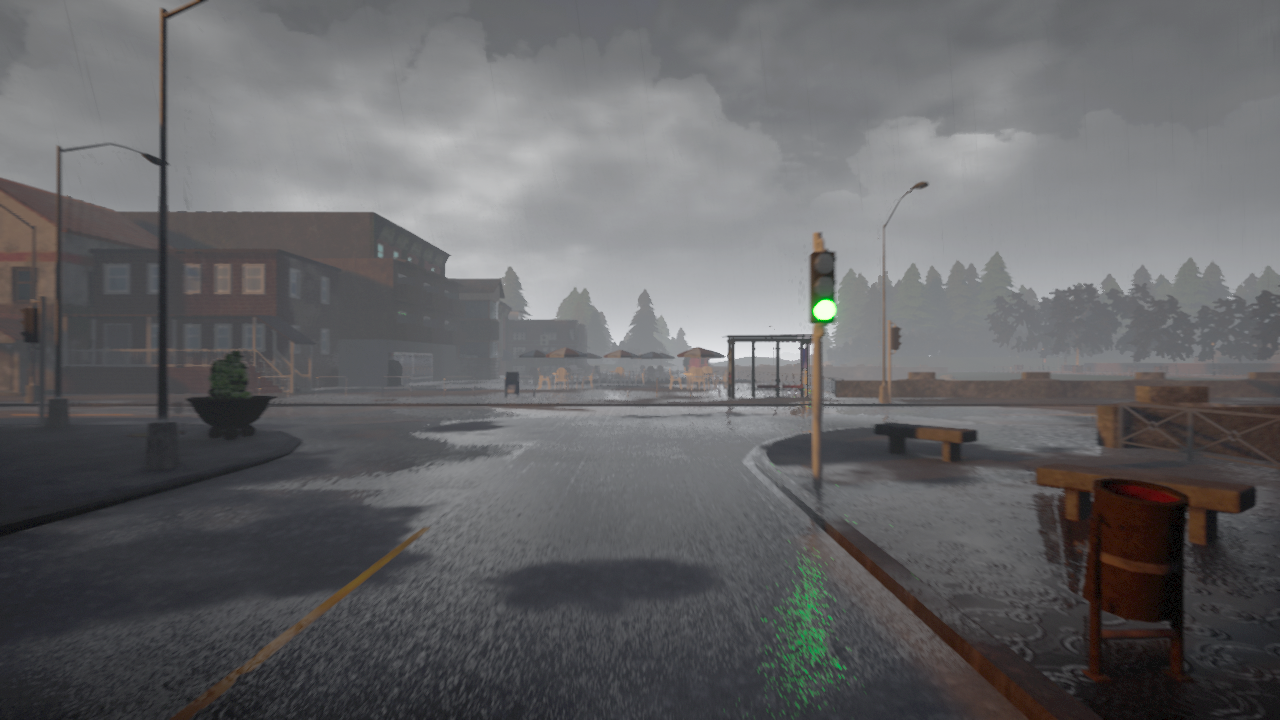green: (809, 250, 840, 325)
